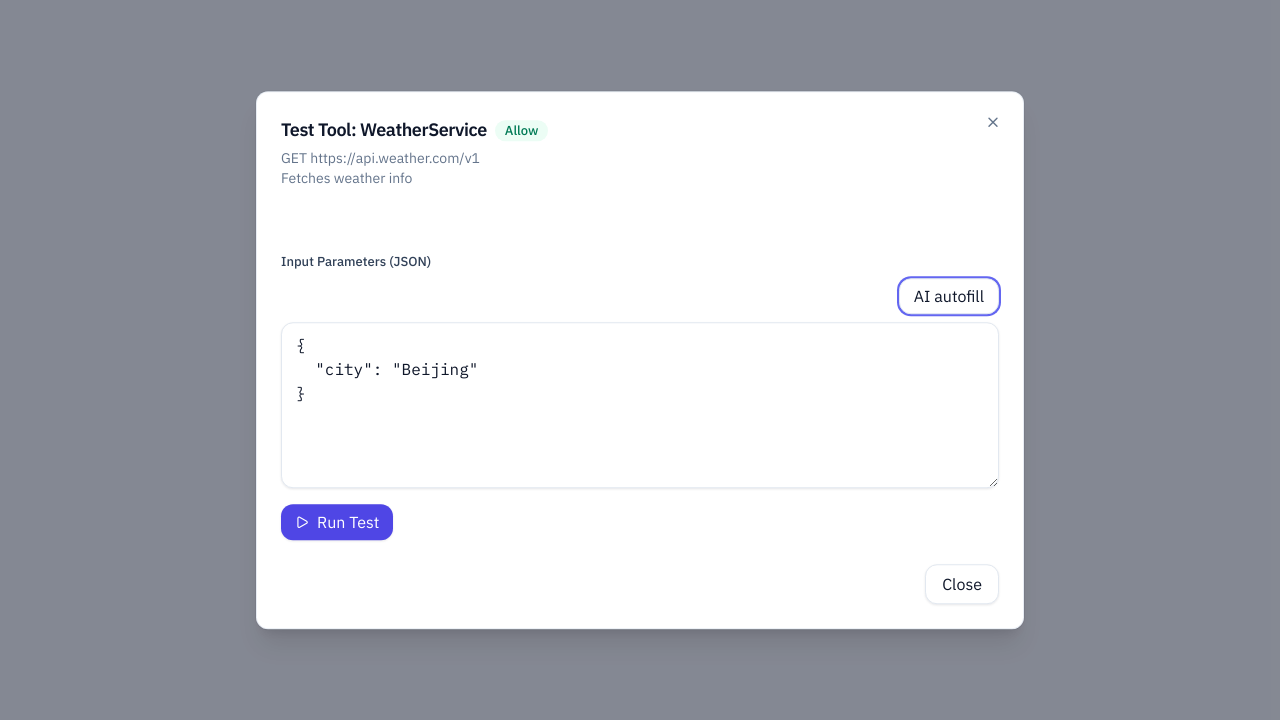
ToolTestPanel › paginates large output when result exceeds page size
The width and height of the screenshot is (1280, 720).
Click the button "Run Test" at (337, 522), box 281,504 -> 393,540
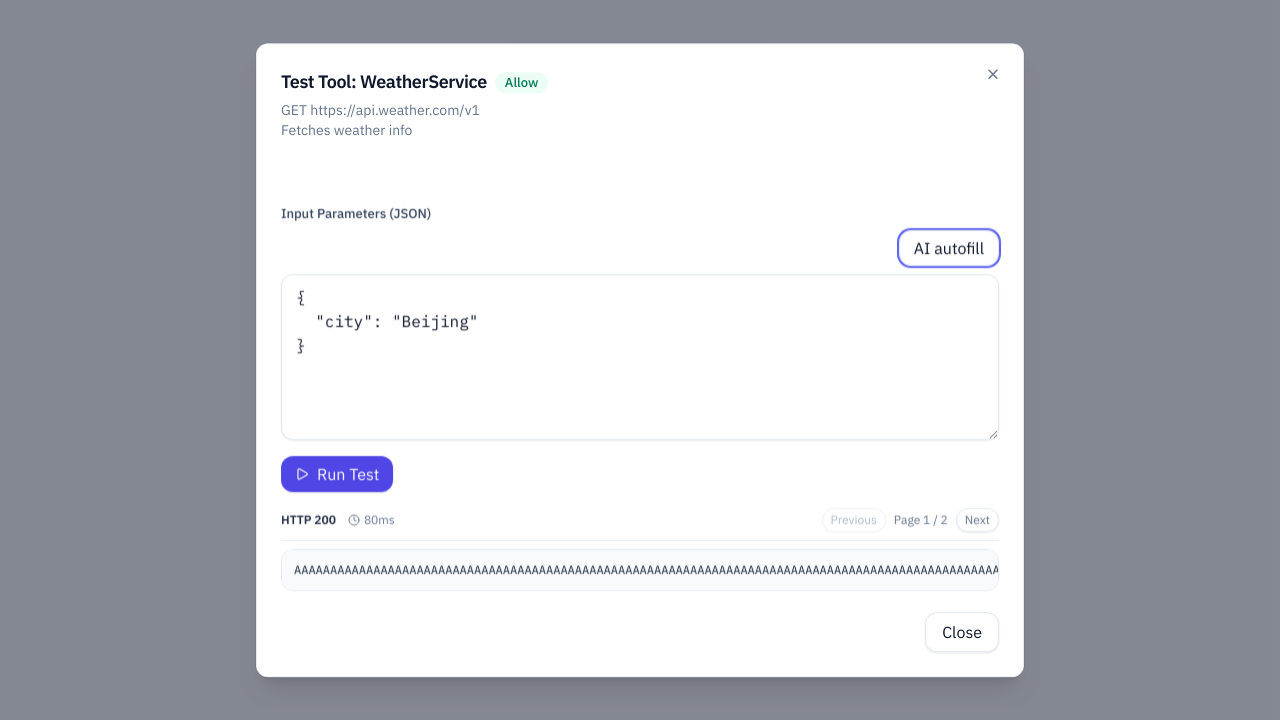
Result: the text "Page 1 / 2" is shown at 894,512 -> 948,528
Click the button "Next" at (977, 520), box 956,508 -> 999,532
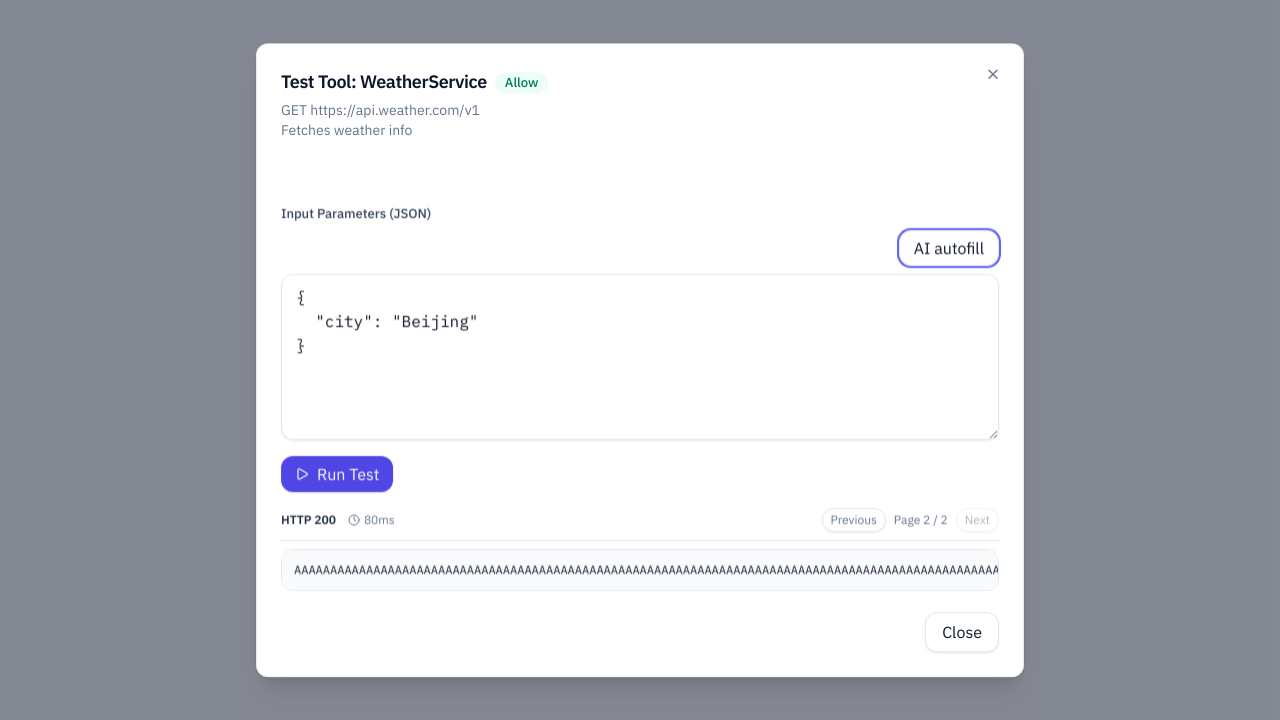
Result: the text "Page 2 / 2" is shown at 894,512 -> 948,528
Click the button "Previous" at (854, 520), box 822,508 -> 886,532
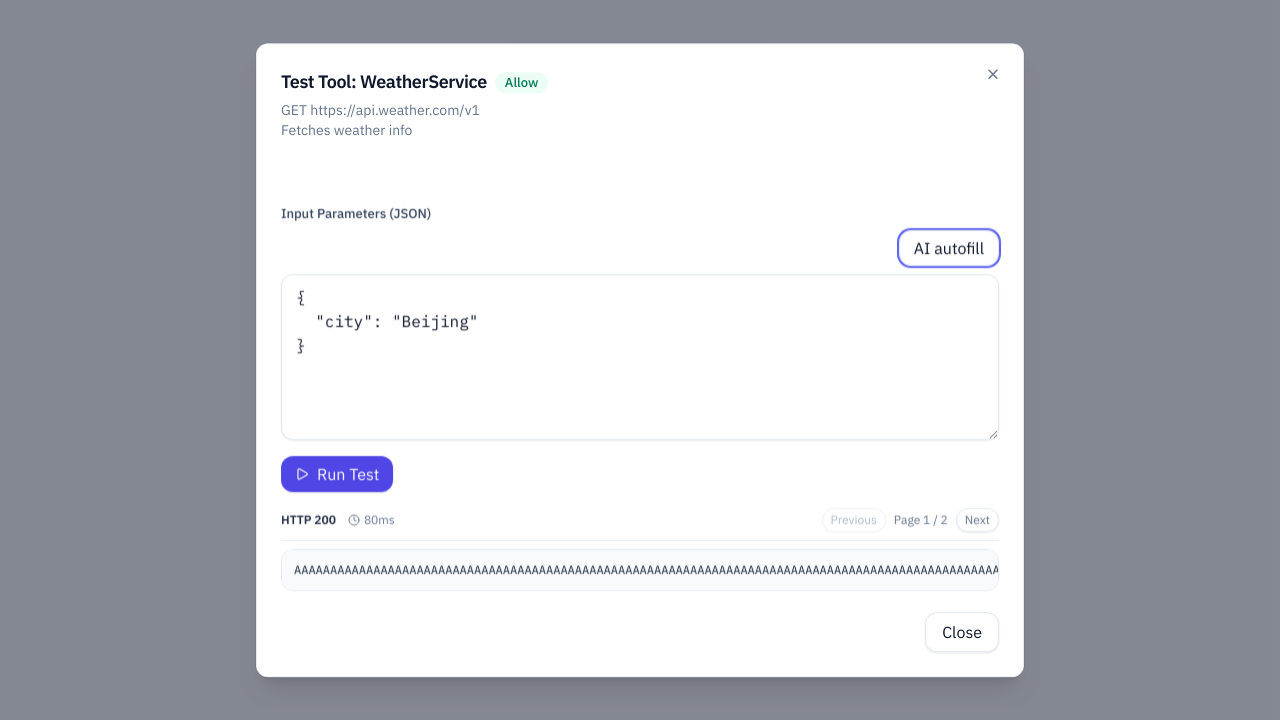
Result: the text "Page 1 / 2" is shown at 894,512 -> 948,528
